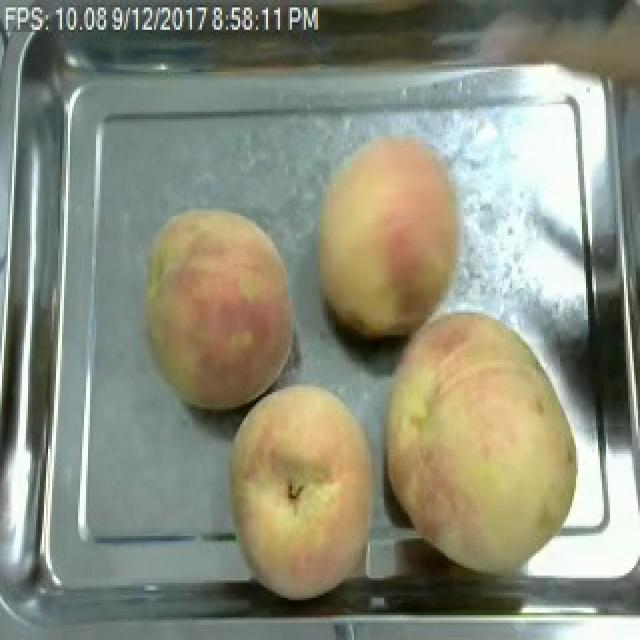Fruit: (368, 300, 592, 583), (218, 370, 402, 610), (306, 129, 474, 352), (136, 201, 302, 417)
